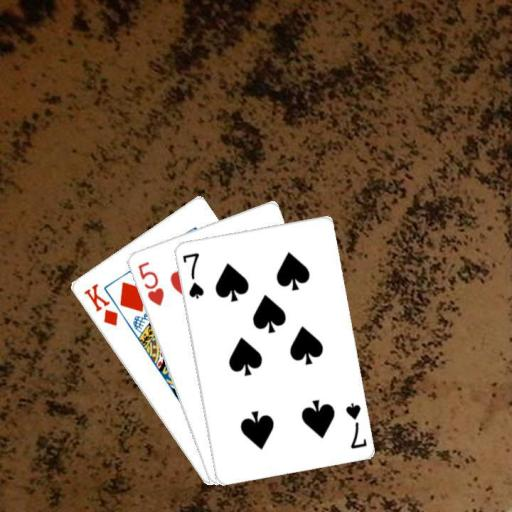5H: (134, 258, 165, 307)
7S: (178, 249, 205, 300), (342, 399, 368, 450)
KD: (81, 280, 120, 328)
